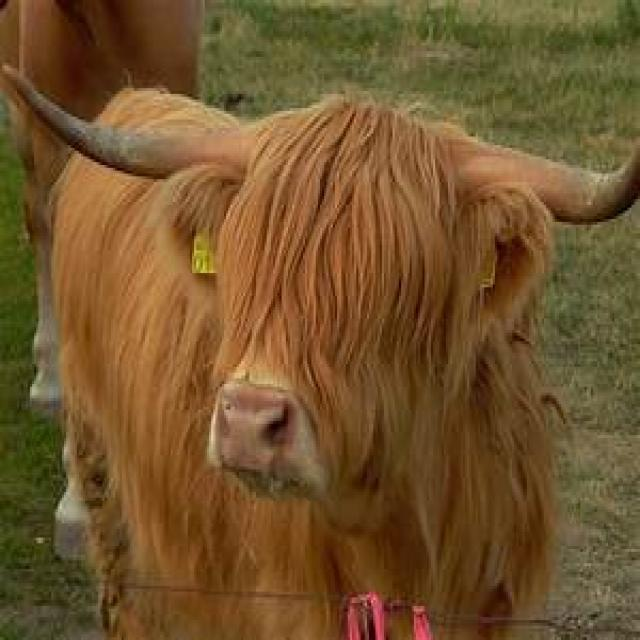cow: (54, 100, 640, 636), (99, 90, 240, 132)
